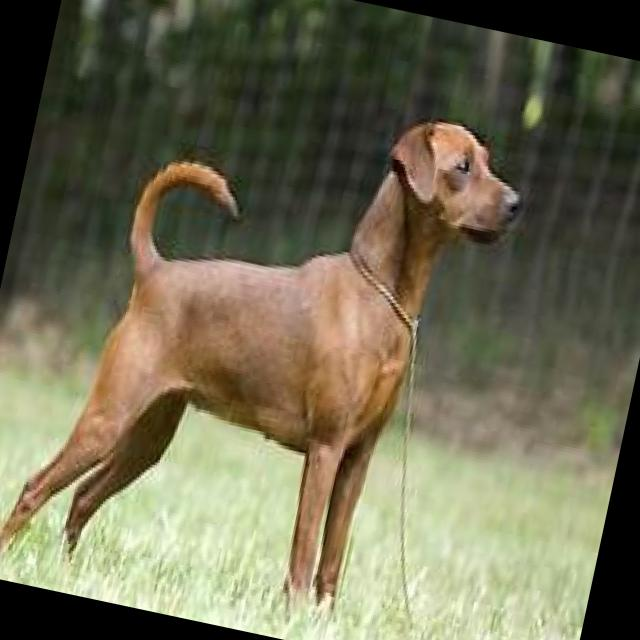dog: (0, 7, 575, 640)
